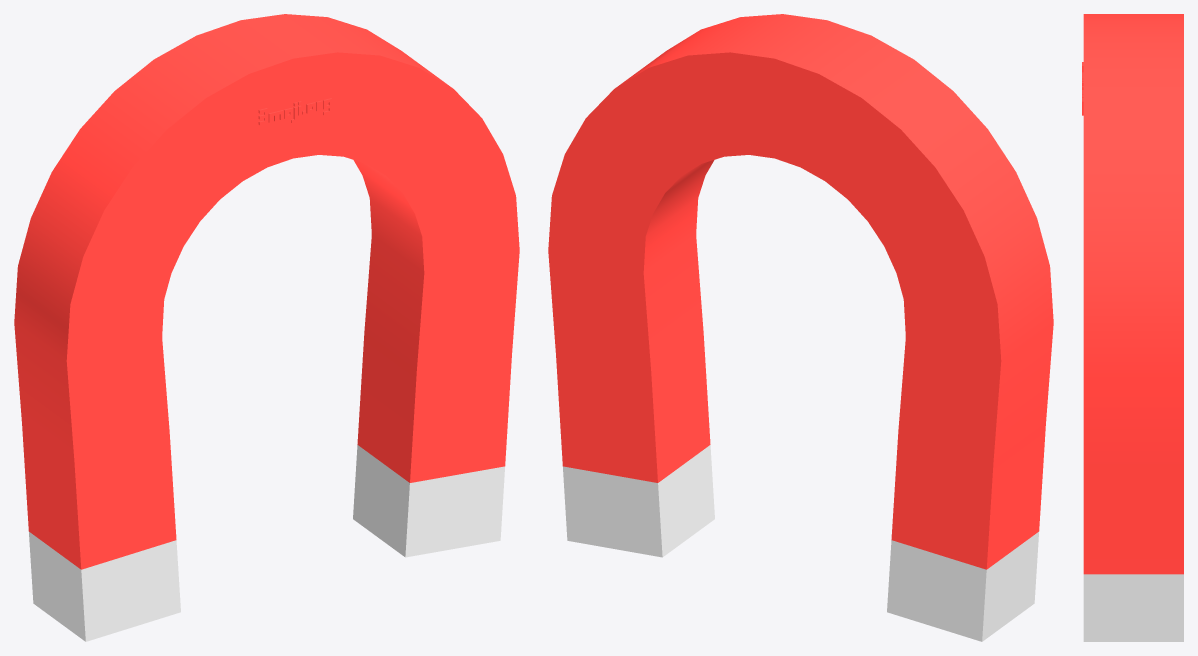
Rendered from magnet.glb.
3 renders of one model, left to right at view 1: azimuth 30°, elevation 25°; view 2: azimuth 150°, elevation 25°; view 3: azimuth 270°, elevation 25°, orthographic. The views are drawn at different scales.
Parts seen in each view (by area): view 1: Circle.2593; view 2: Circle.2593; view 3: Circle.2593.
Part boxes in pixels (x1,y1,x2,y2): Circle.2593: (14, 14, 519, 641); Circle.2593: (548, 14, 1053, 641); Circle.2593: (1082, 14, 1183, 641).
Size of the model in its own units: 1.97 by 2.22 by 0.4022.
Materials: 1 (1 with a texture image).
